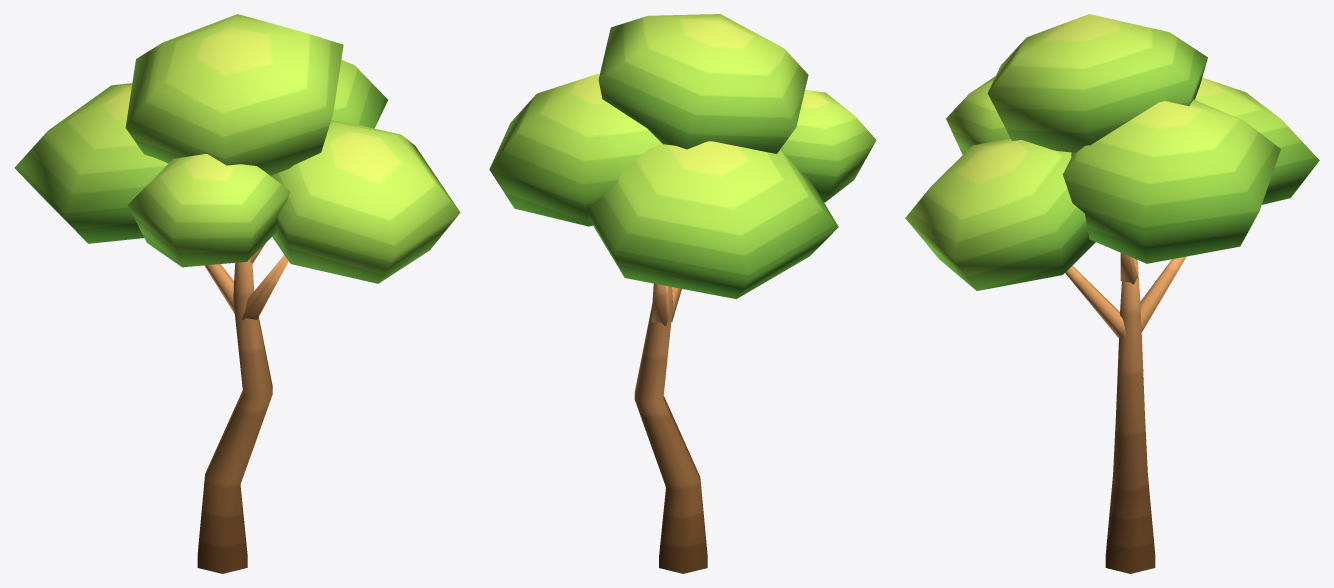
The model's file is tree_003.fbx.
3 renders of one model, left to right at view 1: azimuth 30°, elevation 25°; view 2: azimuth 150°, elevation 25°; view 3: azimuth 270°, elevation 25°, orthographic. The views are drawn at different scales.
Visible parts, largest first — view 1: tree.003; view 2: tree.003; view 3: tree.003.
Part boxes in pixels (x1,y1,x2,y2): tree.003: (14, 14, 460, 573); tree.003: (489, 14, 876, 573); tree.003: (905, 14, 1319, 573).
Bounding box in the file's own units: 33.19 × 52.08 × 36.28.
